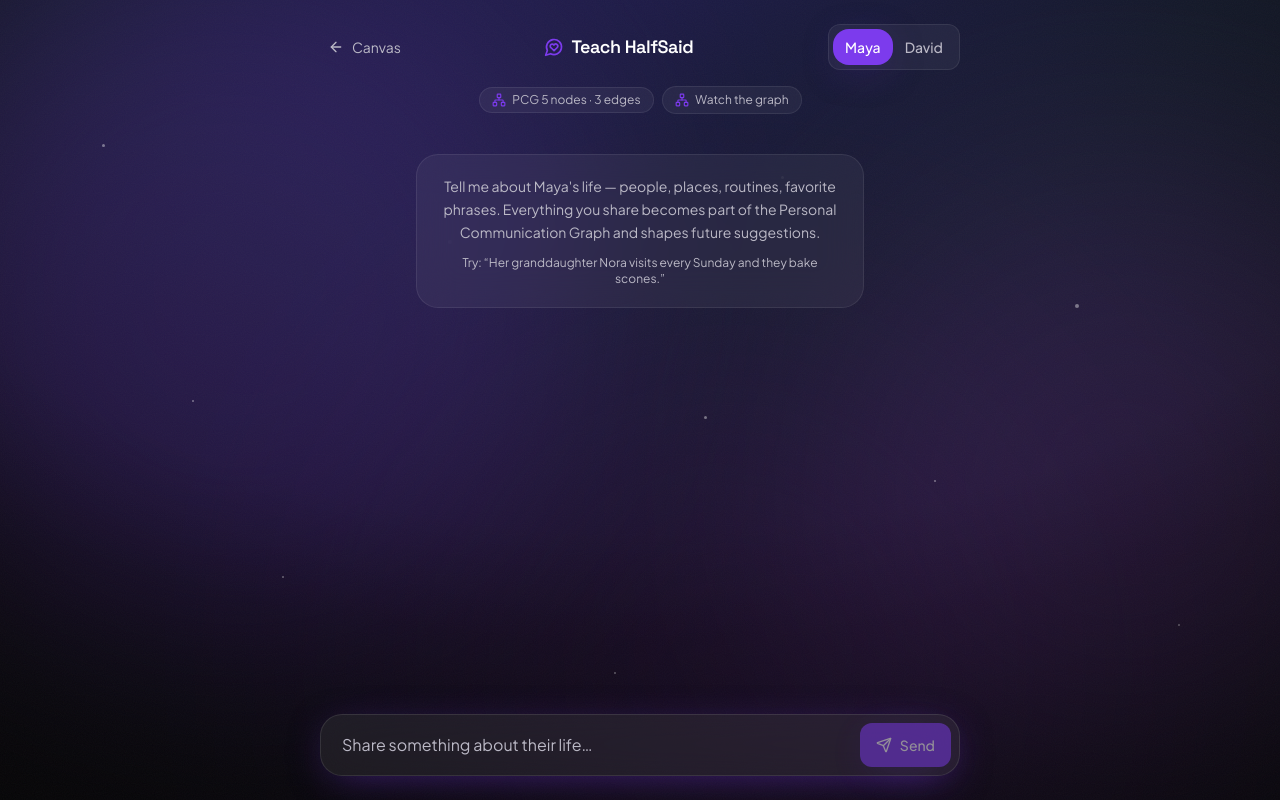
Test: IngestChat › sends a message and renders the companion reply with entity chips
Step 1. Type "Nora visits every Sunday and they bake scones" into the field named "tell halfsaid something" → (590, 745), box [329, 723, 852, 767]
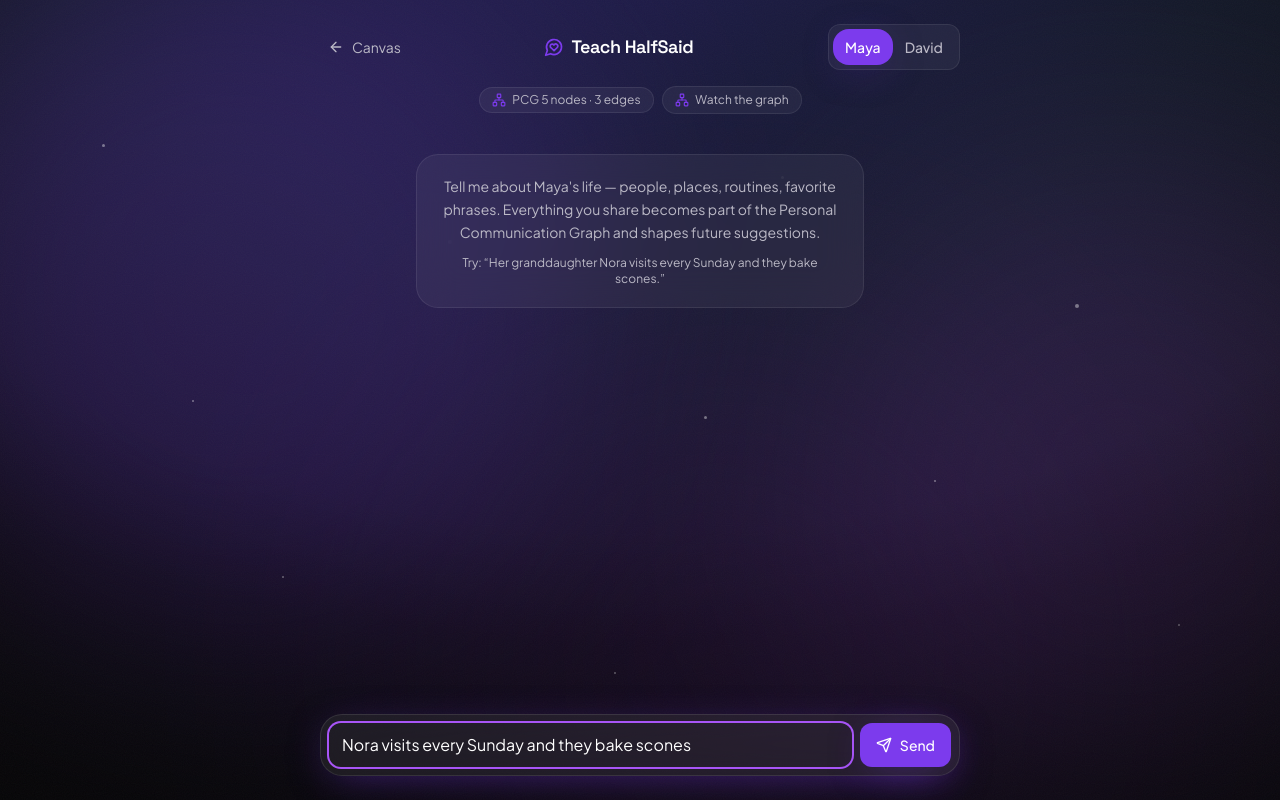
Step 2. Click the button "Send" → (905, 745), box [860, 723, 951, 767]
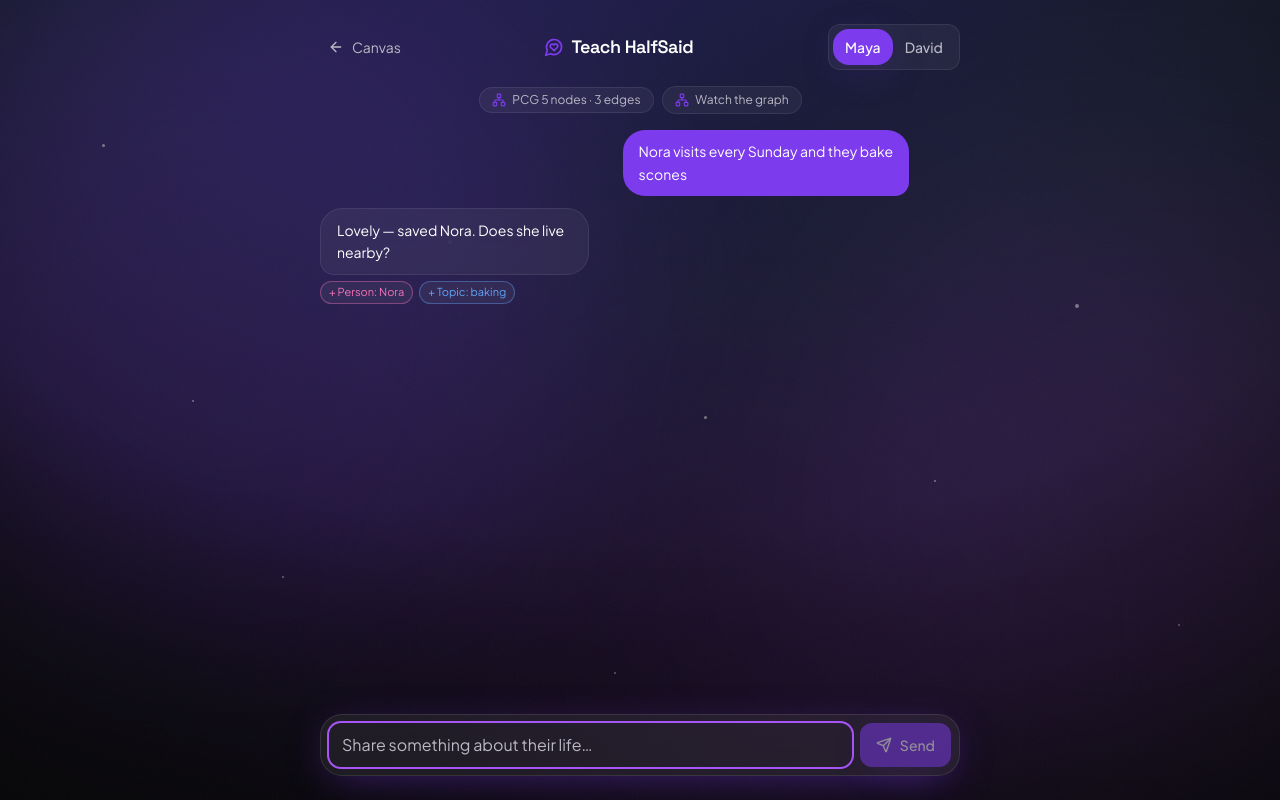
Result: the text "Lovely — saved Nora. Does she live nearby?" is shown at [337, 218, 572, 264]
Result: the list item "+ Person: Nora" is shown at [320, 281, 413, 304]
Result: the list item "+ Topic: baking" is shown at [419, 281, 515, 304]
